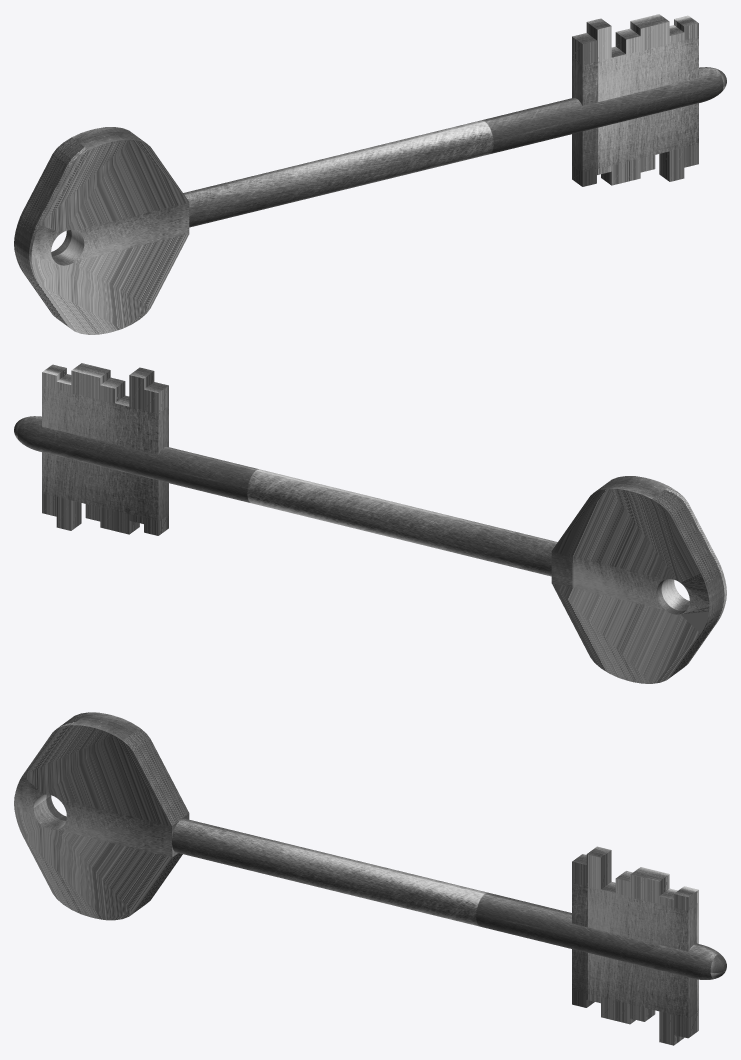
The model's file is silver_key.glb.
3 views of the same model, one above another, from view 1: azimuth 30°, elevation 25°; view 2: azimuth 150°, elevation 25°; view 3: azimuth 330°, elevation 25° (orthographic).
Visible parts, largest first — view 1: Цилиндр; view 2: Цилиндр; view 3: Цилиндр.
Part boxes in pixels (x1,y1,x2,y2): Цилиндр: [14, 14, 726, 334]; Цилиндр: [14, 363, 726, 683]; Цилиндр: [14, 712, 726, 1045].
Size of the model in its own units: 0.1159 by 0.03 by 0.005.
Materials: 1 (1 with a texture image).
